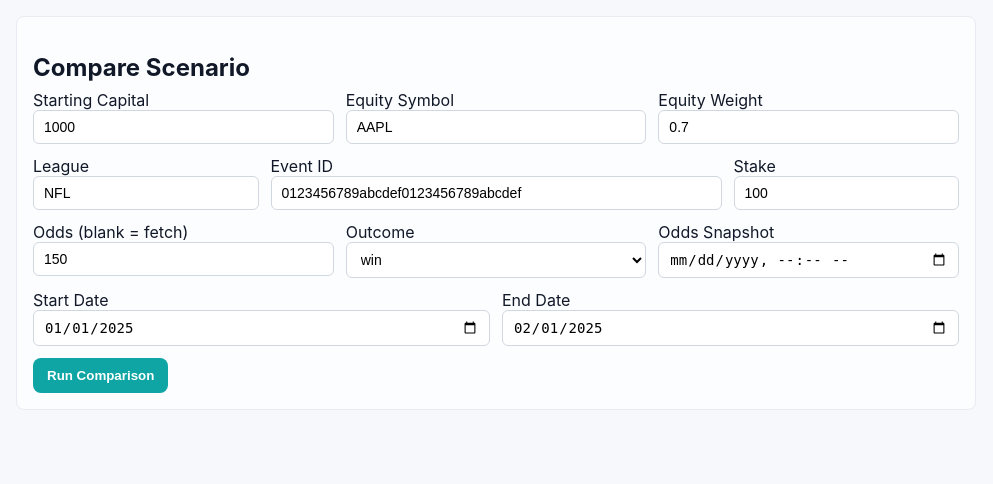
Test case: CompareForm validation › invalid event_id shows validation message
Replace the text in the field labelled "Event ID" with "bad" at (496, 193), box [270, 176, 722, 210]
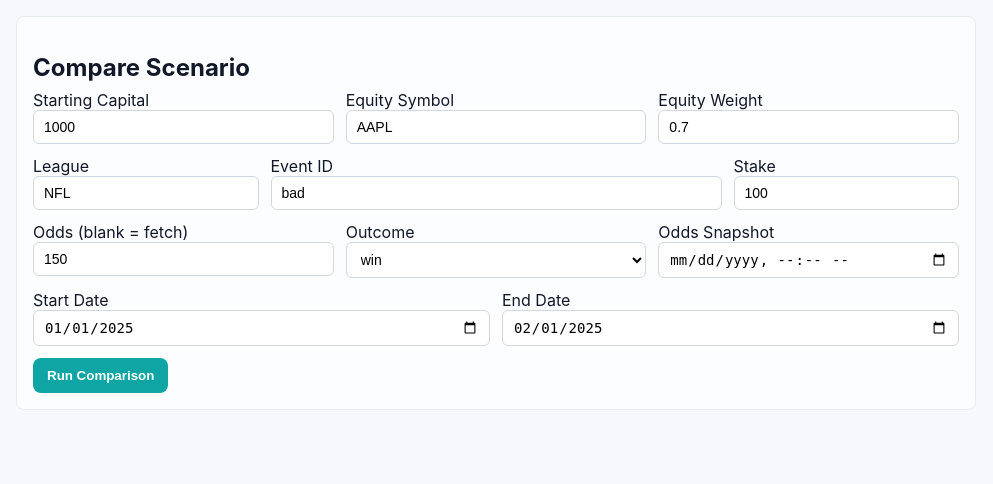
Click the button "Run Comparison" at (101, 375), box [33, 358, 168, 393]
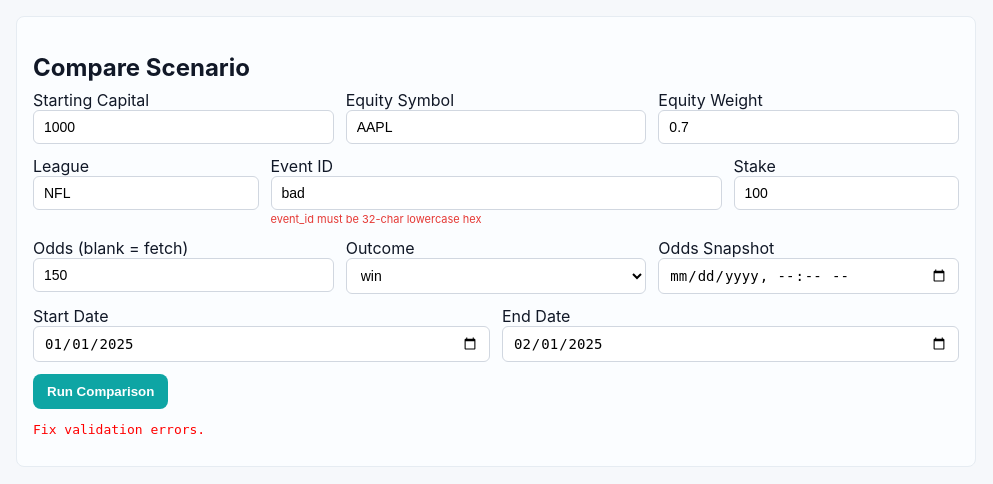
Expected: the text "event_id must be 32-char lowercase hex" is shown, [270, 212, 482, 226]
